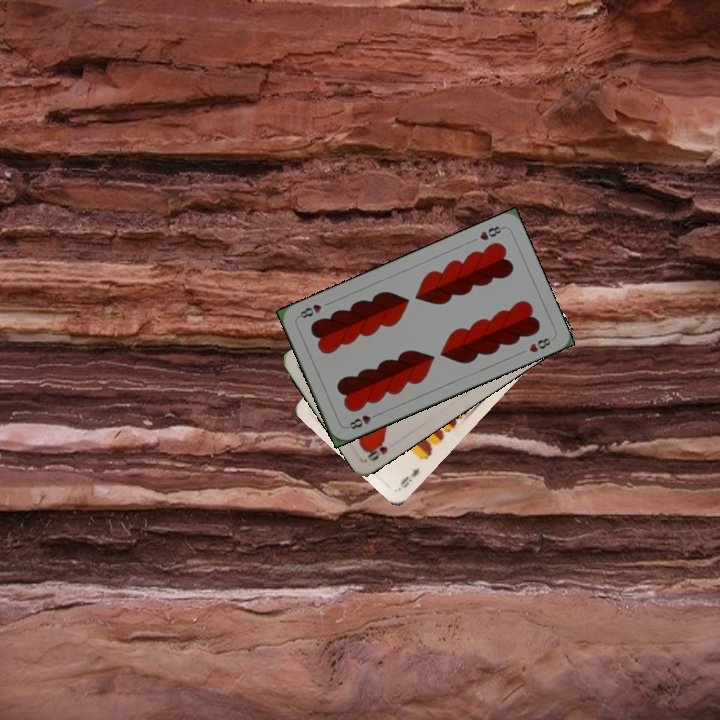E9: (395, 463, 422, 492)
H8: (343, 409, 382, 432), (475, 222, 506, 243)
HO: (363, 437, 391, 464)
